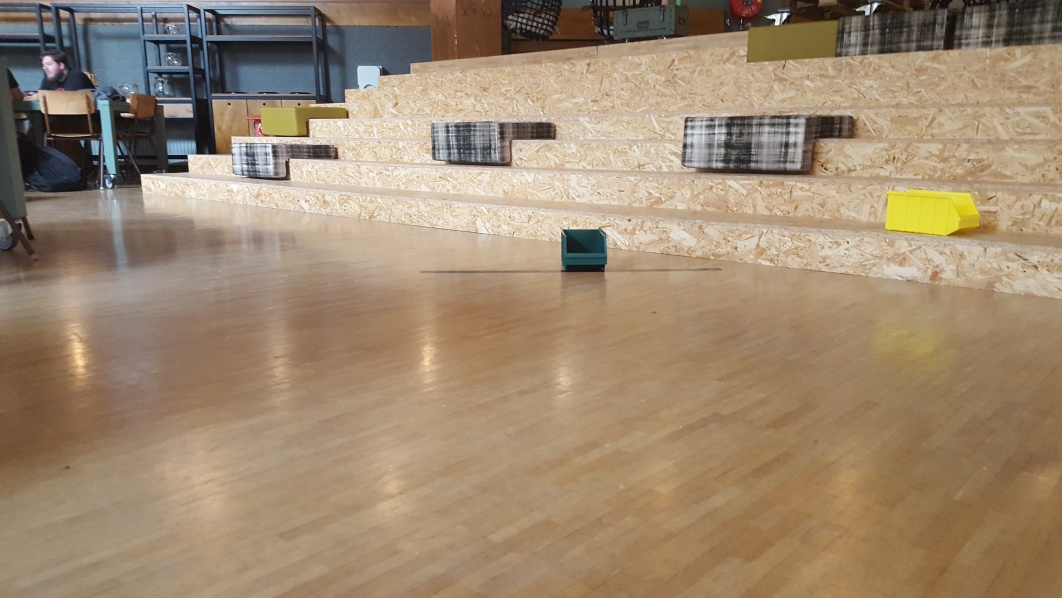tray: (879, 187, 981, 239), (553, 227, 610, 271)
